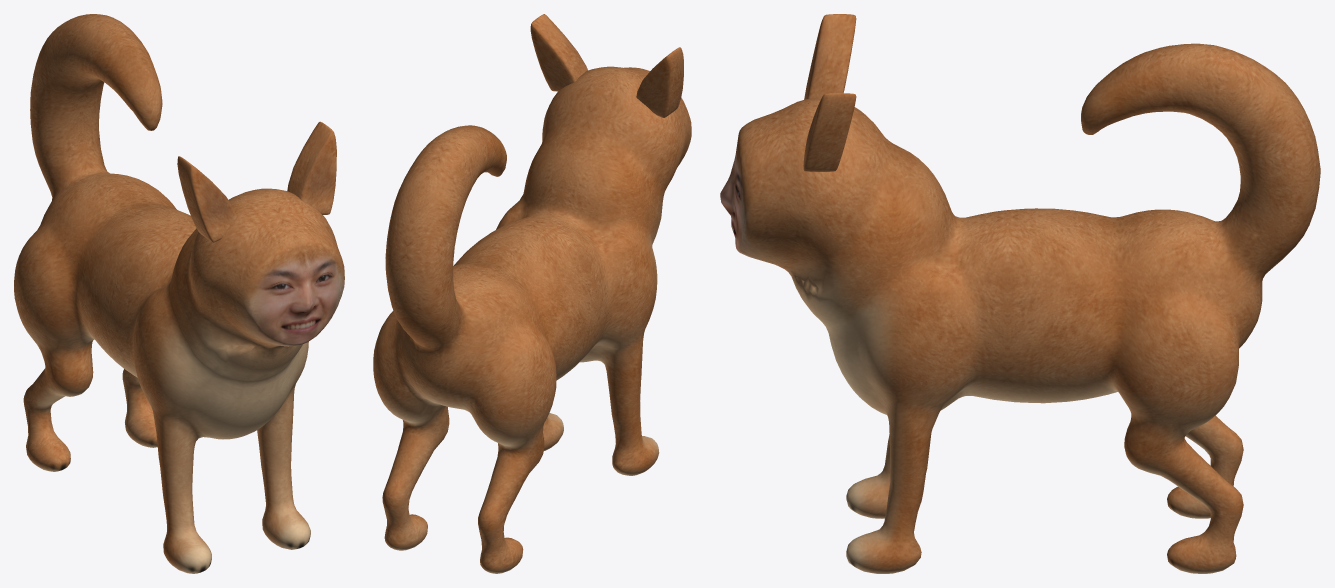
The model's file is Dog.glb.
3 views of the same model, side by side, from view 1: azimuth 30°, elevation 25°; view 2: azimuth 150°, elevation 25°; view 3: azimuth 270°, elevation 25° (orthographic). The views are drawn at different scales.
Parts seen in each view (by area): view 1: Dog_Realistic_LowVertex; view 2: Dog_Realistic_LowVertex; view 3: Dog_Realistic_LowVertex.
Boxes of the visible parts, box(x1,y1,x2,y2) form: Dog_Realistic_LowVertex: box(14, 14, 344, 573); Dog_Realistic_LowVertex: box(373, 14, 691, 573); Dog_Realistic_LowVertex: box(720, 14, 1320, 573).
Bounding box in the file's own units: 0.4845 × 1.17 × 1.27.
1 material, 1 textured.
